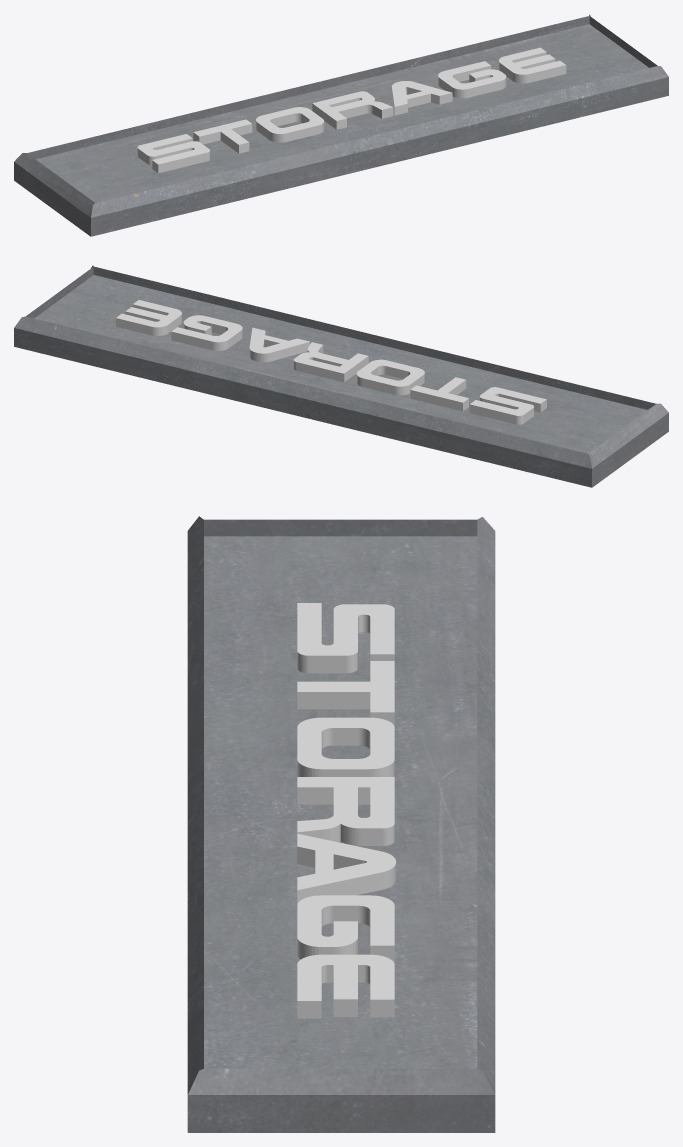
The model's file is Storage_Sign.fbx.
The picture shows the model from 3 angles, top to bottom: view 1: azimuth 30°, elevation 25°; view 2: azimuth 150°, elevation 25°; view 3: azimuth 270°, elevation 25°; orthographic projection. The views are drawn at different scales.
Parts seen in each view (by area): view 1: Box001, TextPlus002; view 2: Box001, TextPlus002; view 3: Box001, TextPlus002.
Boxes of the visible parts, left/top/right/bottom form: Box001: left=14, top=14, right=668, bottom=236; TextPlus002: left=137, top=47, right=566, bottom=173; Box001: left=14, top=265, right=668, bottom=487; TextPlus002: left=115, top=300, right=546, bottom=424; Box001: left=187, top=516, right=495, bottom=1132; TextPlus002: left=297, top=603, right=396, bottom=1018.
Bounding box in the file's own units: 61.84 × 2.97 × 14.24.
Materials: 1 (1 with a texture image).
